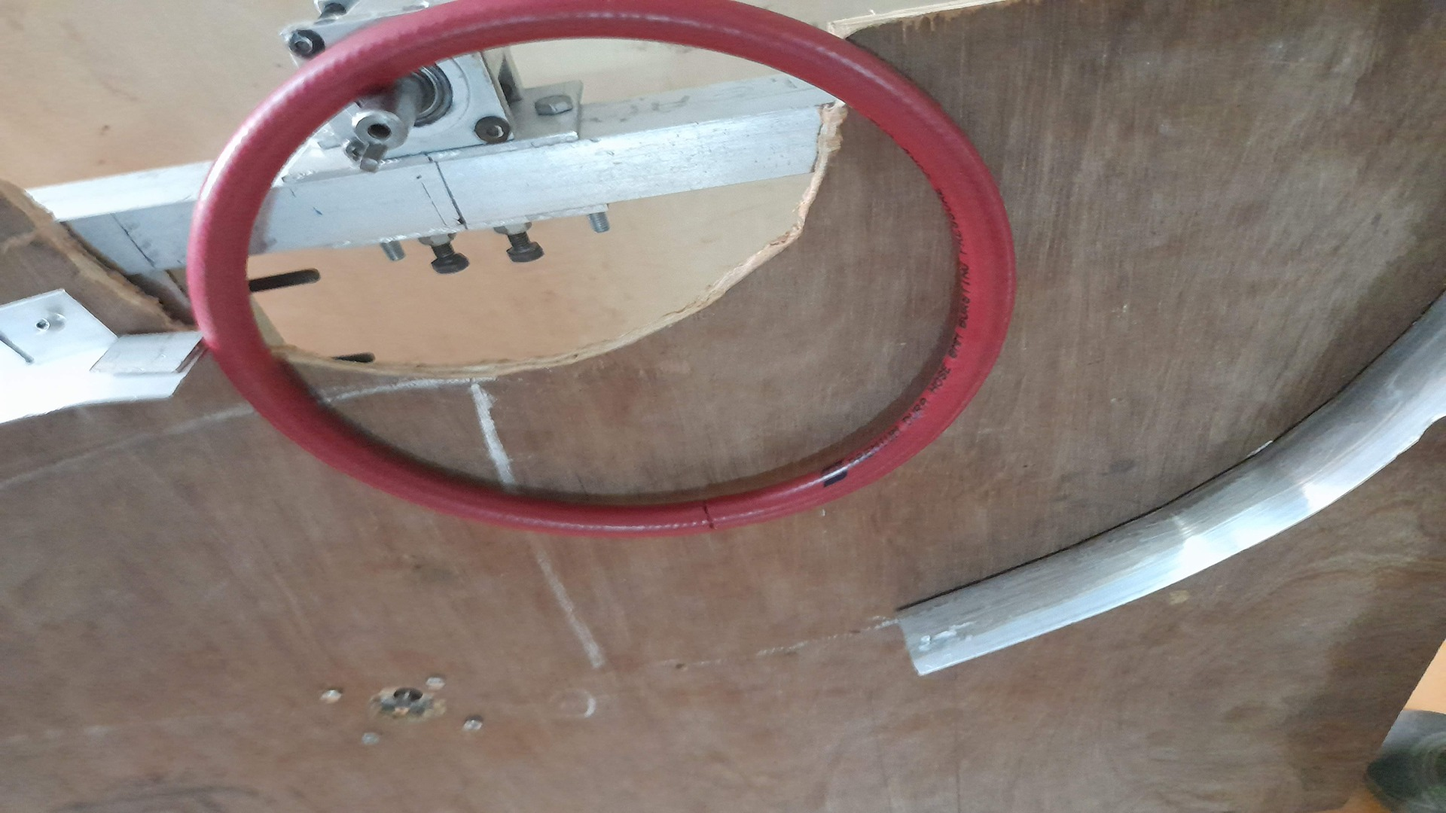Red ring: (197, 11, 1013, 537)
